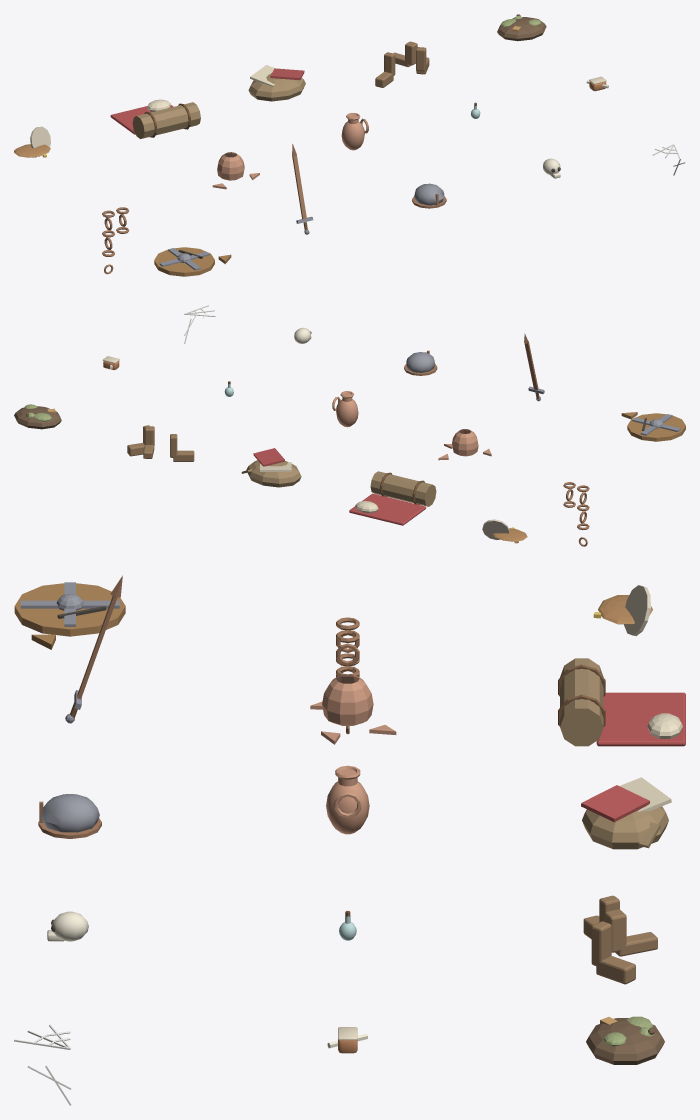
File: Assets4.glb
3 renders of one model, top to bottom at view 1: azimuth 30°, elevation 25°; view 2: azimuth 150°, elevation 25°; view 3: azimuth 270°, elevation 25°, orthographic. The views are drawn at different scales.
Visible parts, largest first — view 1: GoblinBedroll.001, LaundryPile.001, BrokenShield.001, BootPile.001, RottenFoodPile.001, BrokenPottery.001, SpilledFood.001, CeramicJug.001, OldHelmet.001, HangingChains.001, RustySword.001; view 2: GoblinBedroll.001, LaundryPile.001, BrokenShield.001, BootPile.001, RottenFoodPile.001, BrokenPottery.001, CeramicJug.001, SpilledFood.001, OldHelmet.001, HangingChains.001, RustySword.001; view 3: GoblinBedroll.001, BrokenShield.001, LaundryPile.001, BootPile.001, RottenFoodPile.001, BrokenPottery.001, OldHelmet.001, CeramicJug.001, SpilledFood.001, HangingChains.001, SkeletonSkull.001, RustySword.001.
Boxes of the visible parts, left/top/right/bottom form: GoblinBedroll.001: left=110, top=99, right=200, bottom=138; LaundryPile.001: left=248, top=65, right=305, bottom=101; BrokenShield.001: left=154, top=247, right=231, bottom=276; BootPile.001: left=375, top=41, right=429, bottom=87; RottenFoodPile.001: left=497, top=14, right=546, bottom=41; BrokenPottery.001: left=212, top=152, right=259, bottom=189; SpilledFood.001: left=14, top=126, right=50, bottom=157; CeramicJug.001: left=341, top=113, right=368, bottom=150; OldHelmet.001: left=412, top=183, right=446, bottom=208; HangingChains.001: left=102, top=207, right=129, bottom=274; RustySword.001: left=292, top=144, right=313, bottom=234; GoblinBedroll.001: left=349, top=471, right=436, bottom=525; LaundryPile.001: left=241, top=448, right=301, bottom=487; BrokenShield.001: left=621, top=412, right=685, bottom=441; BootPile.001: left=127, top=425, right=194, bottom=461; RottenFoodPile.001: left=14, top=404, right=61, bottom=429; BrokenPottery.001: left=438, top=429, right=491, bottom=460; CeramicJug.001: left=332, top=391, right=358, bottom=427; SpilledFood.001: left=482, top=519, right=527, bottom=543; OldHelmet.001: left=404, top=350, right=437, bottom=375; HangingChains.001: left=563, top=482, right=589, bottom=546; RustySword.001: left=524, top=333, right=544, bottom=401; GoblinBedroll.001: left=558, top=658, right=685, bottom=746; BrokenShield.001: left=14, top=582, right=125, bottom=649; LaundryPile.001: left=581, top=777, right=671, bottom=849; BootPile.001: left=583, top=895, right=657, bottom=984; RottenFoodPile.001: left=586, top=1016, right=664, bottom=1064; BrokenPottery.001: left=310, top=674, right=396, bottom=744; OldHelmet.001: left=38, top=794, right=101, bottom=838; CeramicJug.001: left=326, top=765, right=369, bottom=834; SpilledFood.001: left=593, top=585, right=652, bottom=636; HangingChains.001: left=336, top=617, right=359, bottom=734; SkeletonSkull.001: left=47, top=911, right=88, bottom=941; RustySword.001: left=65, top=575, right=122, bottom=723.
Bounding box in the file's own units: 5.71 × 1.49 × 3.39.
